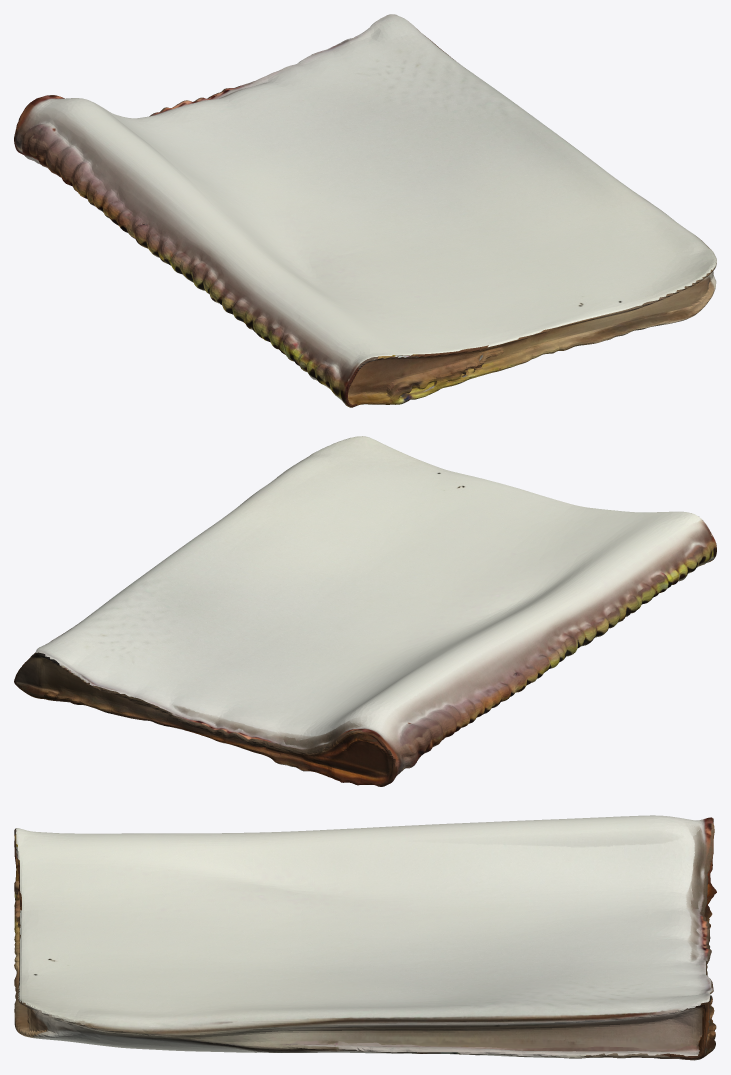
File: image_0001_segmented.glb
3 views of the same model, one above another, from view 1: azimuth 30°, elevation 25°; view 2: azimuth 150°, elevation 25°; view 3: azimuth 270°, elevation 25° (orthographic). The views are drawn at different scales.
Visible parts, largest first — view 1: tmp7e9ouf_0.ply; view 2: tmp7e9ouf_0.ply; view 3: tmp7e9ouf_0.ply.
Part boxes in pixels (x1,y1,x2,y2): tmp7e9ouf_0.ply: (14,14,716,407); tmp7e9ouf_0.ply: (14,436,716,786); tmp7e9ouf_0.ply: (14,815,716,1060).
Size of the model in its own units: 1.42 by 0.2444 by 2.
1 material, 1 textured.
